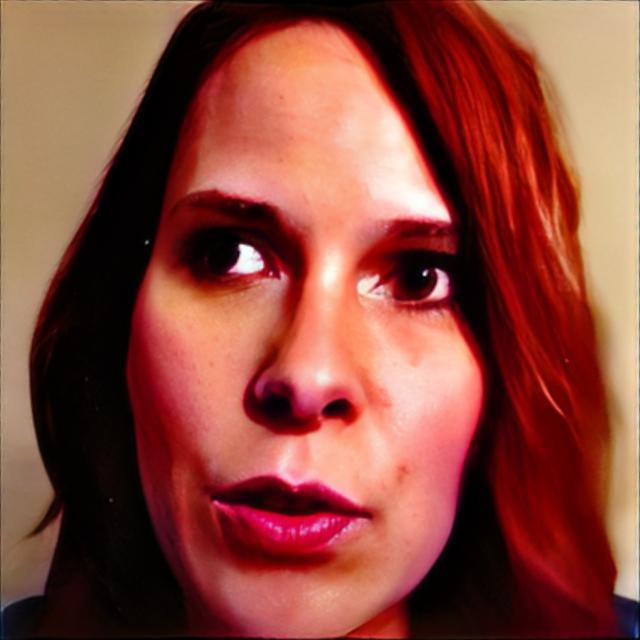surprise: (125, 18, 492, 634)
